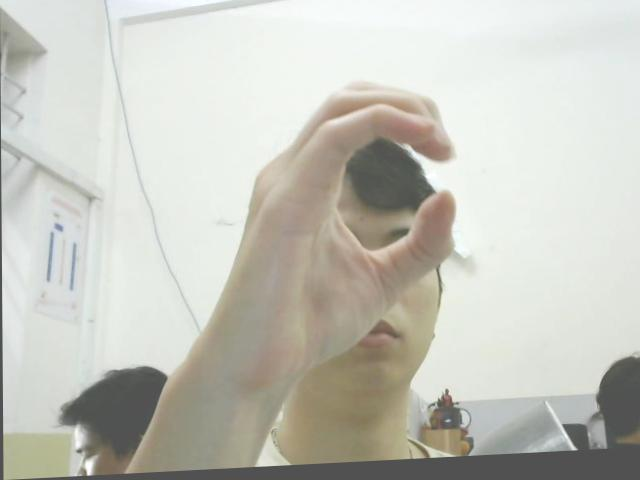C: (226, 77, 458, 386)
